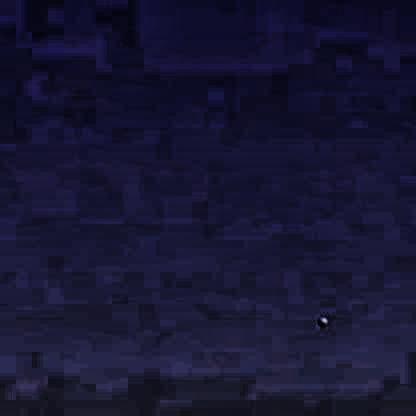golfball: (315, 314, 326, 323)
